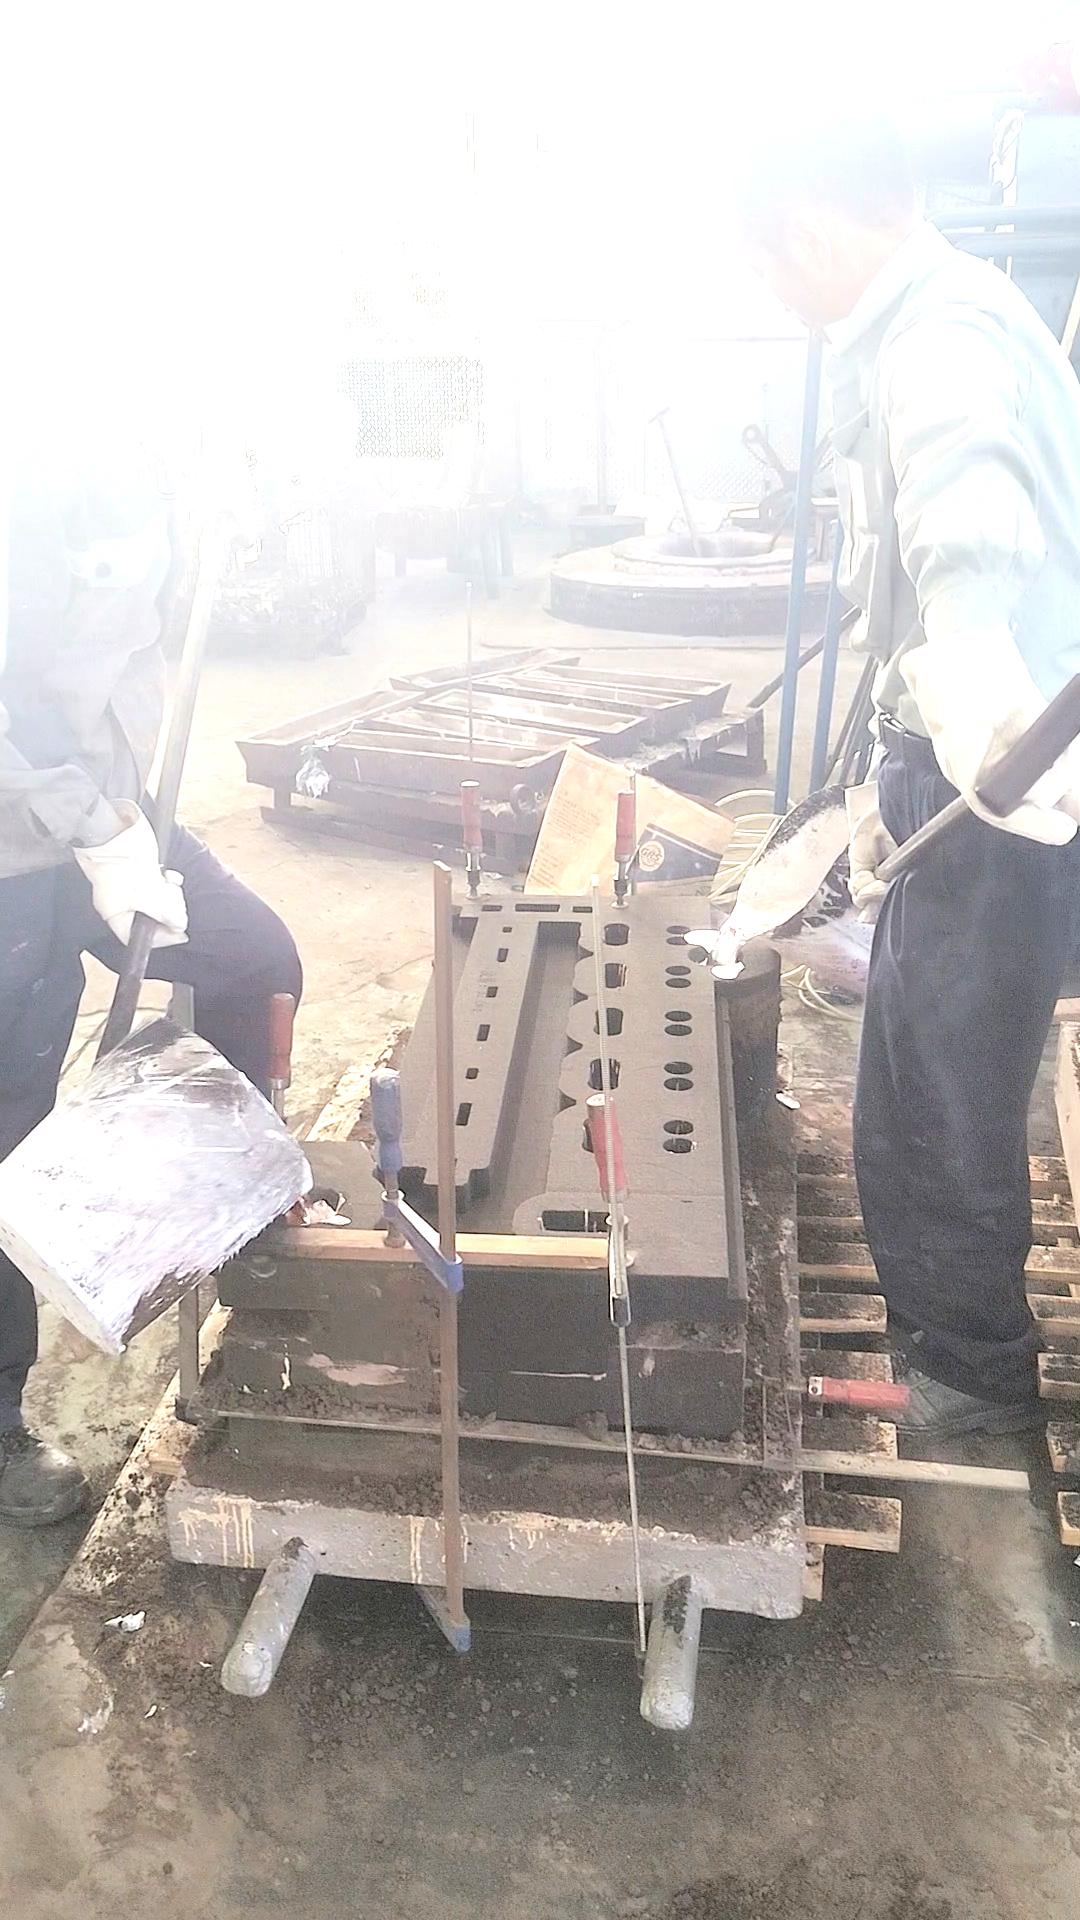pouring hole: (278, 1185, 345, 1222), (687, 944, 742, 967)
